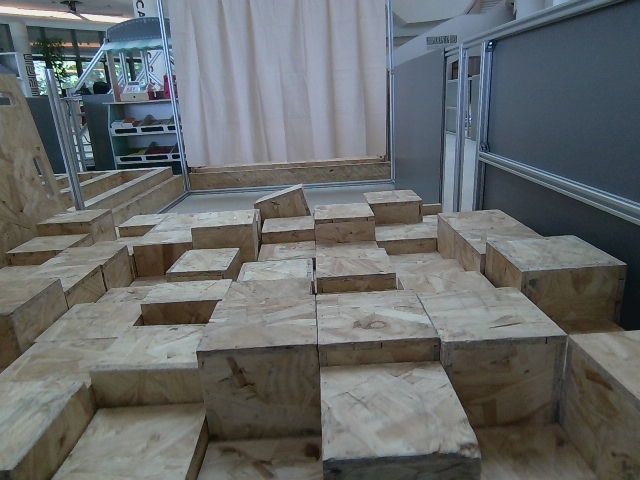curtain: (192, 0, 384, 158)
